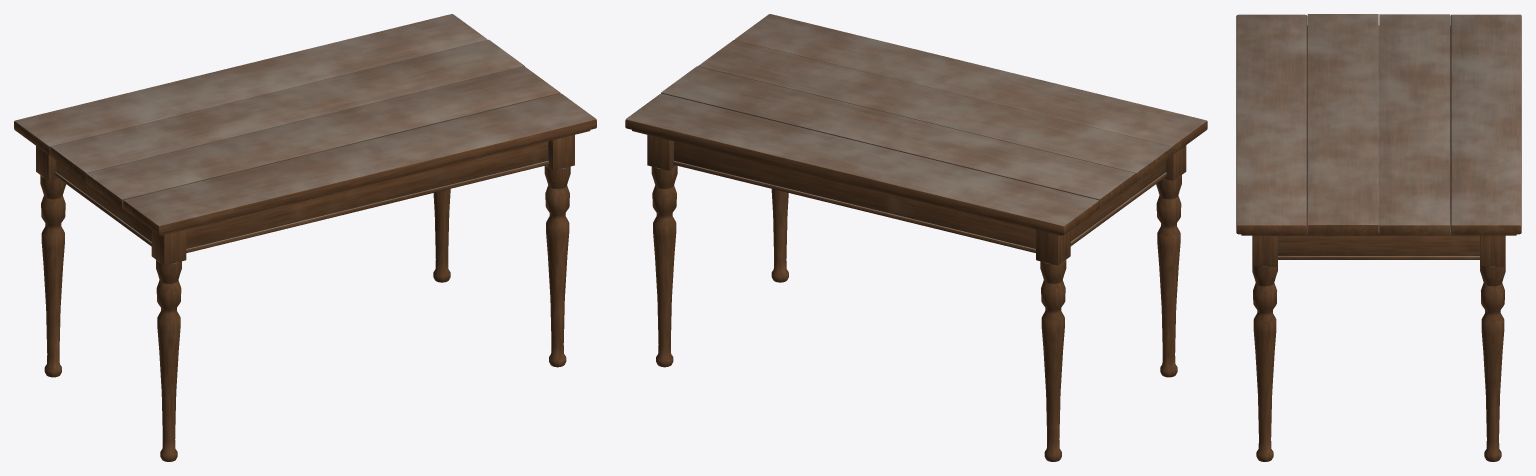
File: mesa_jantar.glb
The picture shows the model from 3 angles, left to right: view 1: azimuth 30°, elevation 25°; view 2: azimuth 150°, elevation 25°; view 3: azimuth 270°, elevation 25°; orthographic projection.
Parts seen in each view (by area): view 1: mesa; view 2: mesa; view 3: mesa.
Boxes of the visible parts, bbox=[...] form: mesa: bbox=[14, 14, 596, 461]; mesa: bbox=[625, 14, 1207, 461]; mesa: bbox=[1236, 14, 1521, 461].
Size of the model in its own units: 1.4 by 0.76 by 0.7988.
1 material, 1 textured.
